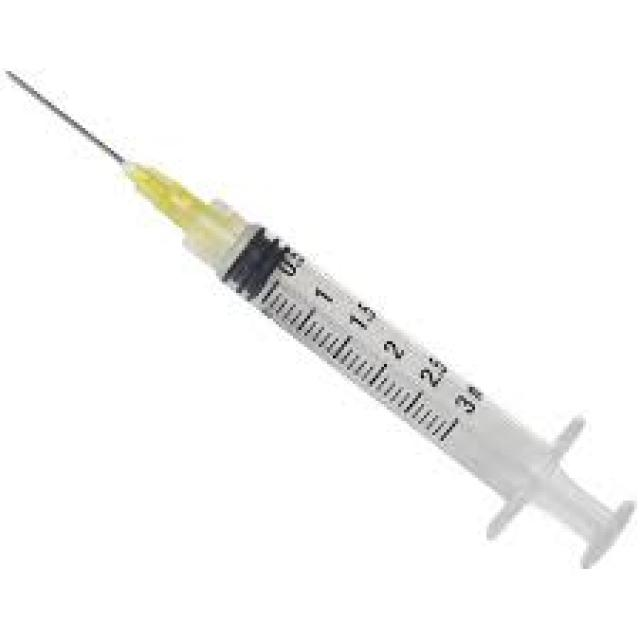syringe: (0, 65, 637, 569)
